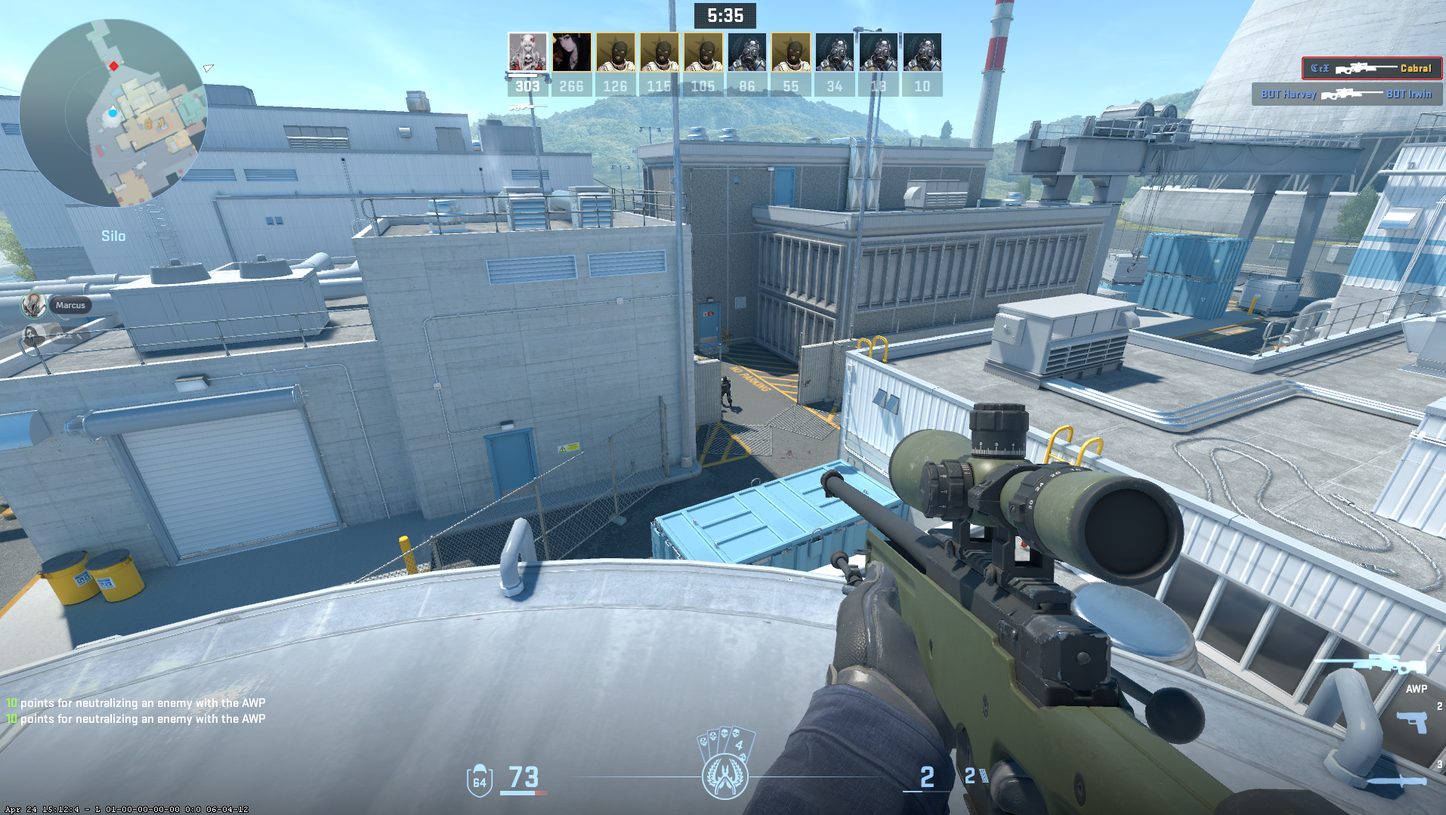CT: (721, 375, 732, 406)
